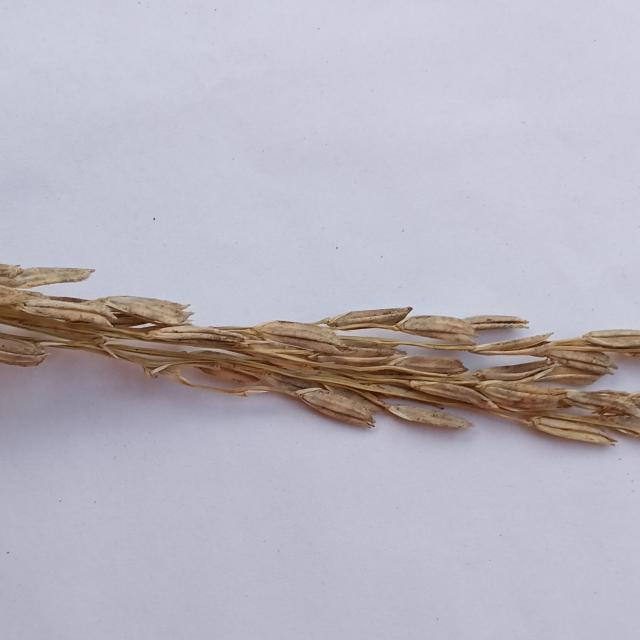Neck_Blast: (0, 264, 640, 459)
